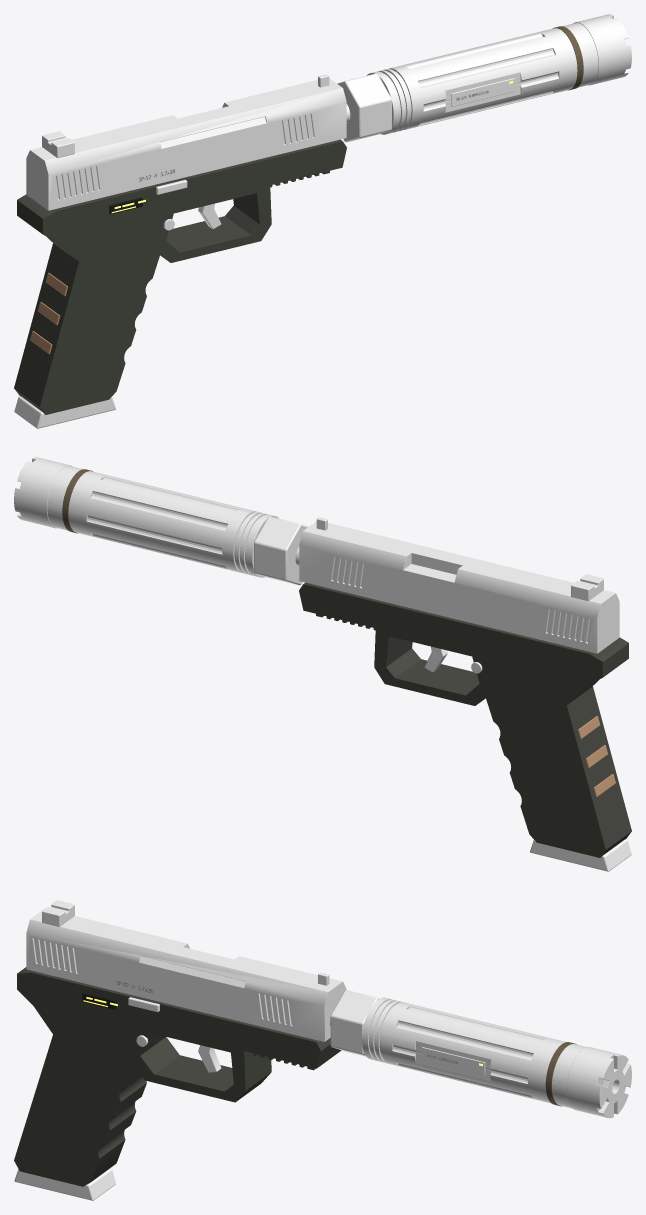
Rendered from pistol_57.glb.
The picture shows the model from 3 angles, top to bottom: view 1: azimuth 30°, elevation 25°; view 2: azimuth 150°, elevation 25°; view 3: azimuth 330°, elevation 25°; orthographic projection.
Visible parts, largest first — view 1: frame, slide, can_tube, can_collar, can_cap, mag_base, can_plate, rear_sight; view 2: frame, slide, can_tube, can_collar, can_cap, mag_base, rear_sight; view 3: frame, slide, can_tube, can_cap, can_collar, mag_base, can_plate, rear_sight, can_band.
Boxes of the visible parts, x1,y1,x2,y2 form: frame: (14,139,346,414); slide: (26,78,346,210); can_tube: (367,23,598,134); can_collar: (337,73,391,142); can_cap: (573,14,631,85); mag_base: (14,396,115,428); can_plate: (451,78,514,106); rear_sight: (42,131,74,158); frame: (299,582,631,857); slide: (299,521,619,653); can_tube: (47,466,278,577); can_collar: (254,516,308,585); can_cap: (14,457,72,528); mag_base: (530,839,631,871); rear_sight: (571,574,603,601); frame: (14,967,341,1186); slide: (26,908,346,1041); can_tube: (362,997,587,1108); can_cap: (566,1047,631,1118); can_collar: (330,990,379,1056); mag_base: (14,1168,115,1200); can_plate: (421,1047,485,1075); rear_sight: (42,900,74,926); can_band: (545,1042,576,1106).
Bounding box in the file's own units: 0.3918 × 0.1738 × 0.0372.
